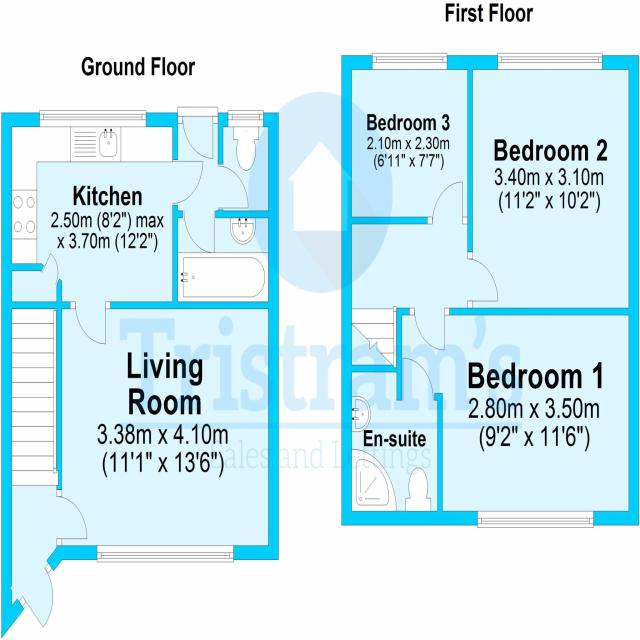DOOR: (18, 560, 58, 635), (168, 156, 207, 210), (180, 207, 218, 262), (53, 492, 93, 544), (179, 109, 216, 165), (215, 160, 252, 214), (72, 296, 108, 351), (465, 255, 502, 306), (400, 353, 436, 403), (430, 177, 465, 228), (412, 304, 447, 354)
ROOM: (54, 299, 279, 562), (393, 306, 640, 527), (0, 111, 206, 348), (339, 49, 475, 228), (495, 49, 605, 76)
WINDOW: (95, 541, 237, 566), (475, 506, 595, 531), (37, 106, 149, 131), (370, 49, 449, 75), (226, 107, 266, 130)
